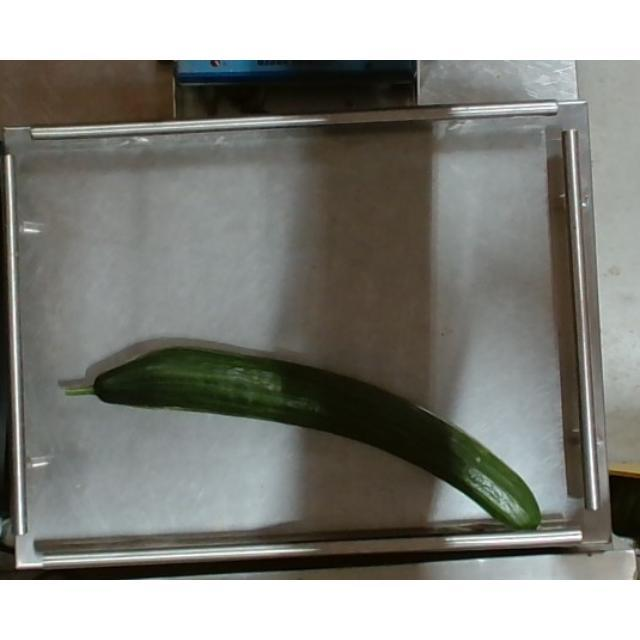cucumber: (62, 348, 542, 532)
